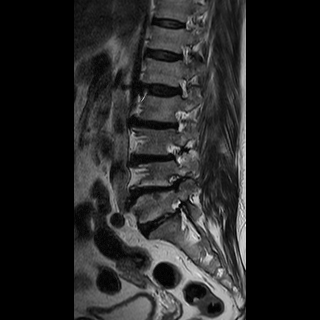RFS0: (171, 72, 193, 104)
RFS3: (162, 168, 189, 196)
